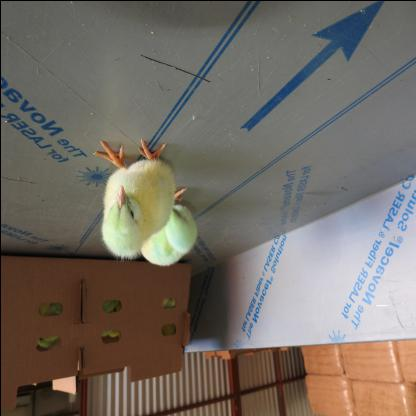Chicken: (100, 132, 176, 260), (132, 197, 196, 270)
